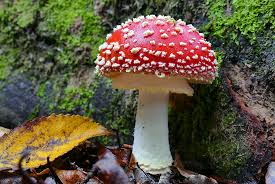Amanita muscaria: (94, 13, 220, 174)
